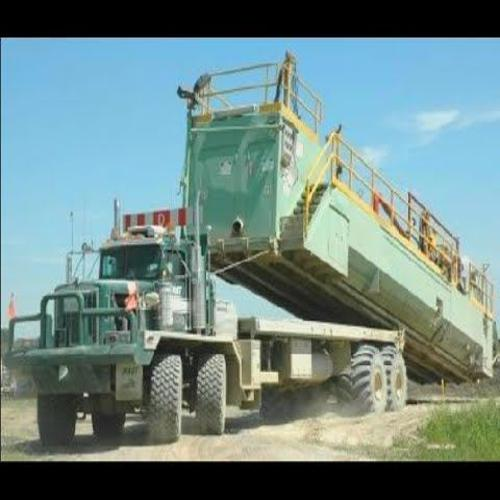con_eq: (14, 75, 497, 430)
